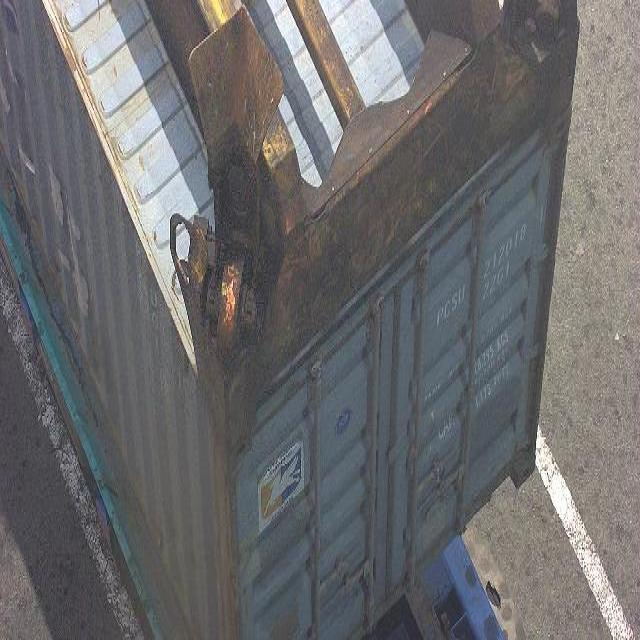ISO: (482, 261, 510, 303)
container_number: (435, 197, 551, 325)
